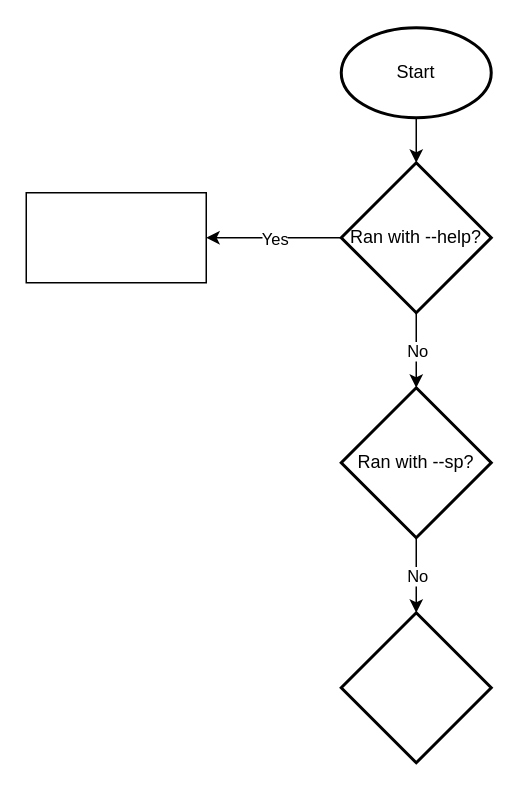
This 519x789 diagram has some shape labels left out. Each missing label, with the centre of its shape:
"Display help information" goes at pixel 115 237.
"Ran with -mp?" goes at pixel 415 687.
